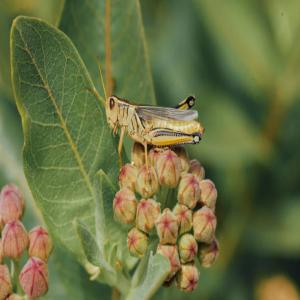locust: (97, 70, 209, 153)
